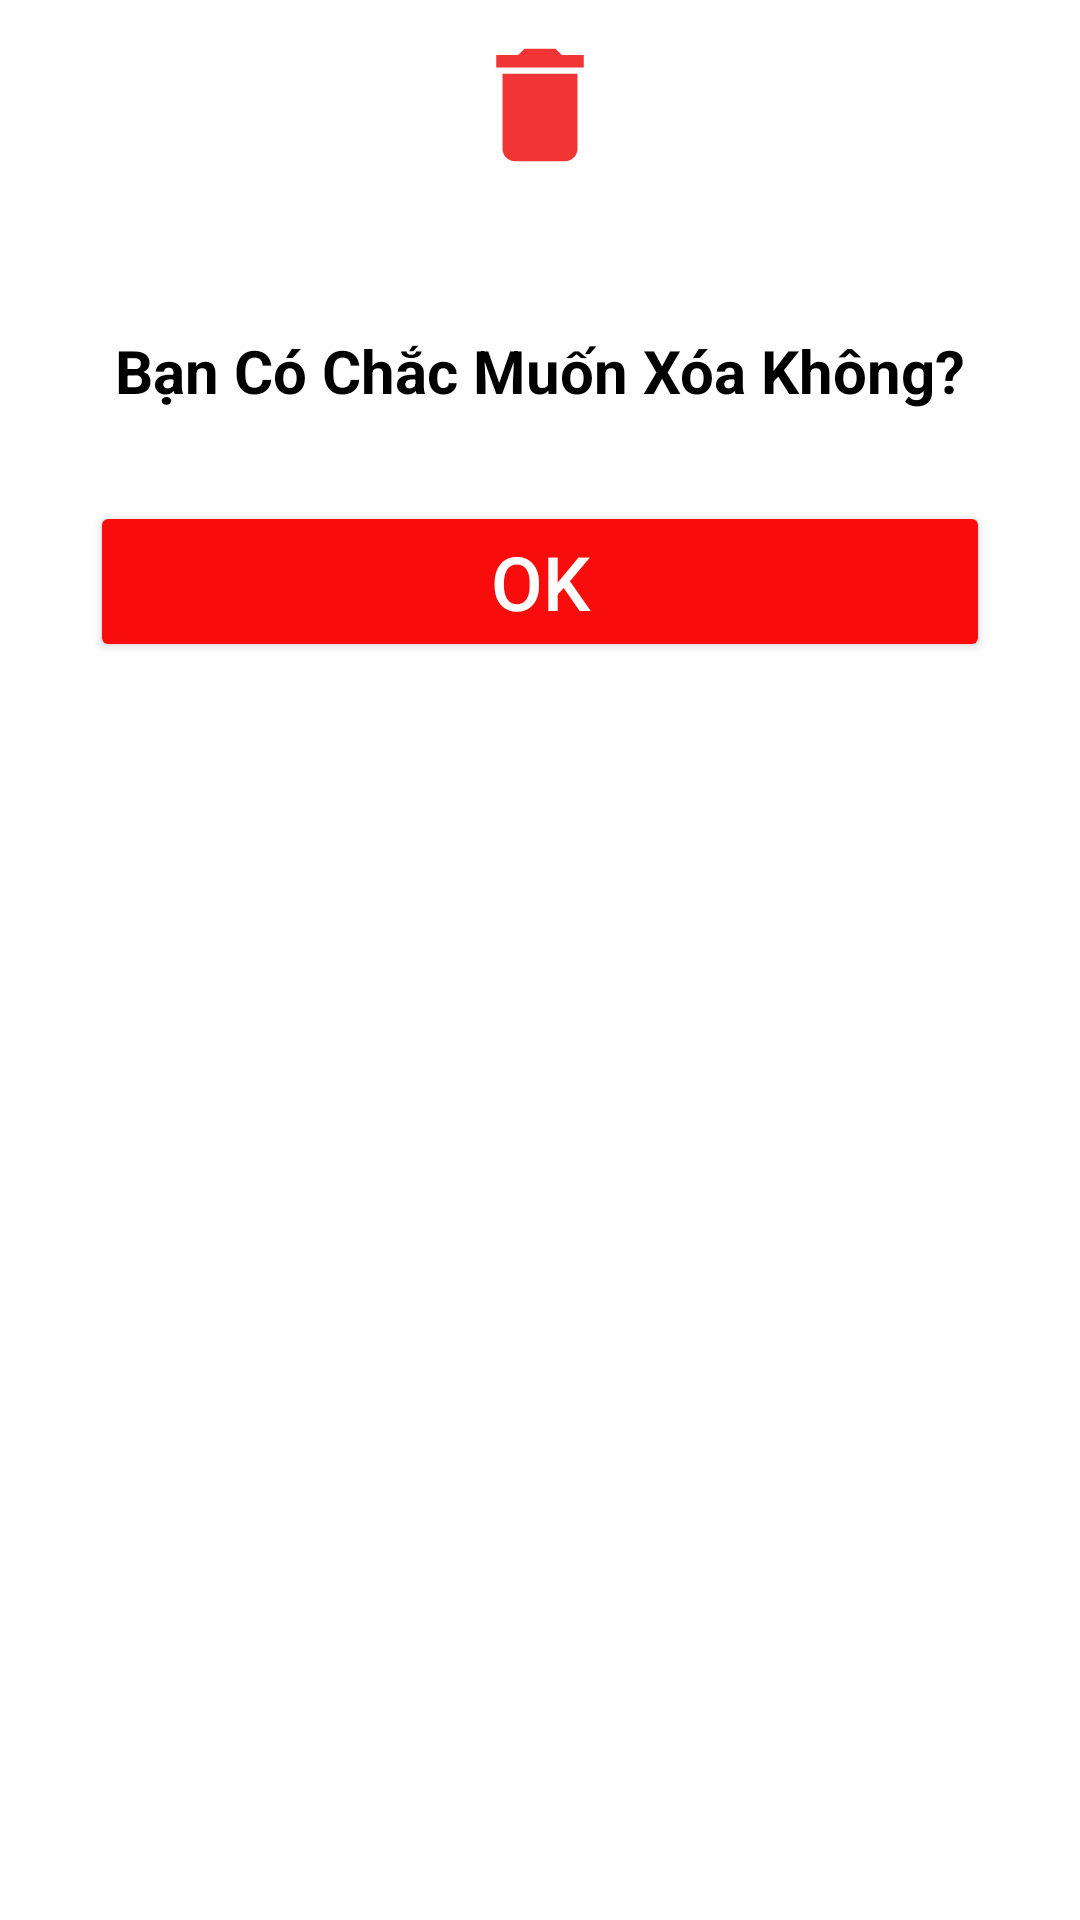

Icon click points for this 1080 × 1920 phone screenshot, format [x,y]:
delete: [540,105]
